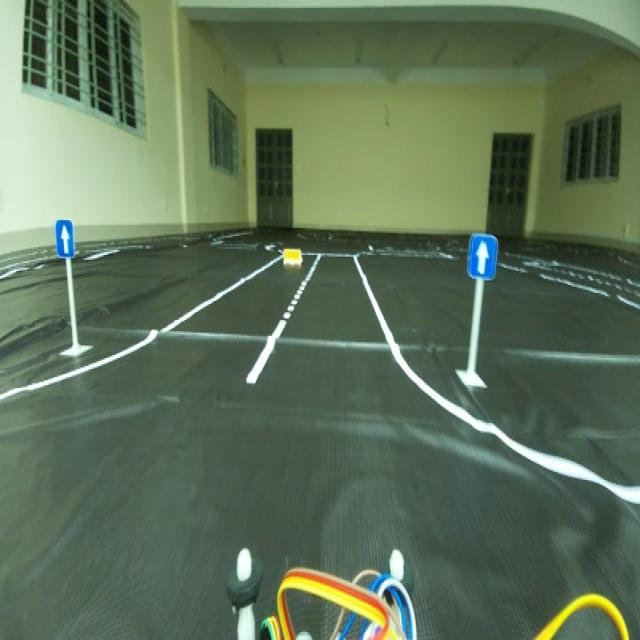onewayroad: (465, 229, 500, 289), (46, 210, 81, 264)
roadblock: (278, 245, 305, 275)
